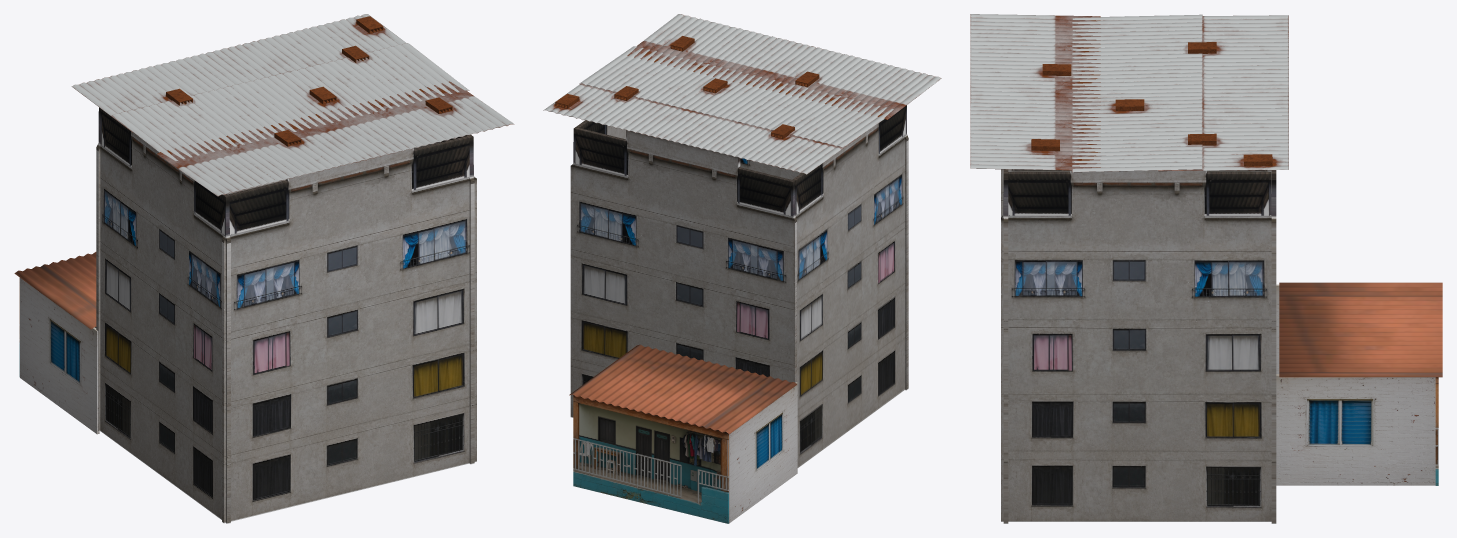
The model's file is casa_izquierda_06.fbx.
3 renders of one model, left to right at view 1: azimuth 30°, elevation 25°; view 2: azimuth 150°, elevation 25°; view 3: azimuth 270°, elevation 25°, orthographic. The views are drawn at different scales.
Visible parts, largest first — view 1: casa_izquierda_06.004, Techo_1.003, casa_izquierda_06.003, casa_izquierda_06B.002, Techo_06.002, casa_izquierda_06.002, casa_izquierda_06.001; view 2: casa_izquierda_06.001, Techo_1.003, casa_izquierda_06.003, casa_izquierda_06A.001, Techo_06.002, casa_izquierda_06B.002, casa_izquierda_06.004, casa_izquierda_06.002; view 3: casa_izquierda_06.002, Techo_1.003, casa_izquierda_06B.001, Techo_06.002, casa_izquierda_06.004, casa_izquierda_06.001.
Boxes of the visible parts, box(x1,y1,x2,y2) form: casa_izquierda_06.004: box(222, 135, 476, 523); Techo_1.003: box(71, 14, 514, 196); casa_izquierda_06.003: box(100, 109, 230, 523); casa_izquierda_06B.002: box(20, 278, 99, 434); Techo_06.002: box(14, 252, 96, 329); casa_izquierda_06.002: box(414, 85, 474, 464); casa_izquierda_06.001: box(96, 107, 285, 431); casa_izquierda_06.001: box(570, 127, 796, 417); Techo_1.003: box(543, 14, 941, 174); casa_izquierda_06.003: box(792, 105, 907, 467); casa_izquierda_06A.001: box(573, 395, 728, 523); Techo_06.002: box(569, 344, 796, 434); casa_izquierda_06B.002: box(729, 382, 797, 523); casa_izquierda_06.004: box(740, 135, 908, 390); casa_izquierda_06.002: box(576, 52, 662, 139); casa_izquierda_06.002: box(1001, 154, 1271, 521); Techo_1.003: box(970, 14, 1288, 172); casa_izquierda_06B.001: box(1276, 374, 1435, 485); Techo_06.002: box(1279, 282, 1442, 377); casa_izquierda_06.004: box(1003, 169, 1008, 523); casa_izquierda_06.001: box(1271, 170, 1276, 523).
Size of the model in its own units: 1325 by 1487 by 1695.
